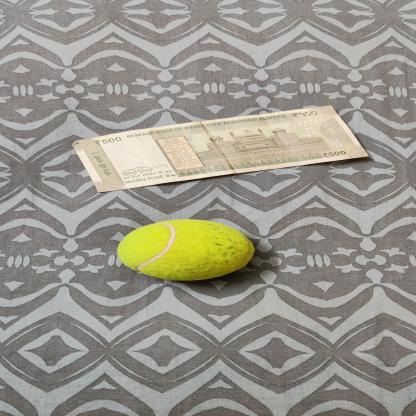New500Back: (71, 104, 369, 193)
